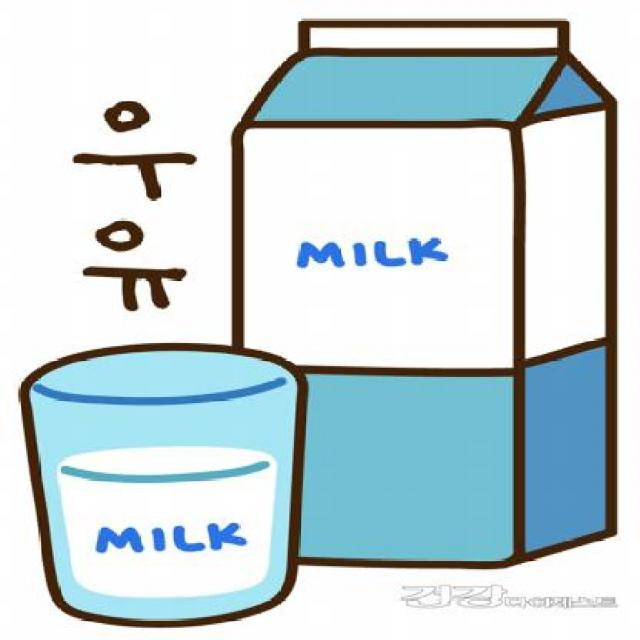non_white_jug: (224, 11, 639, 592)
